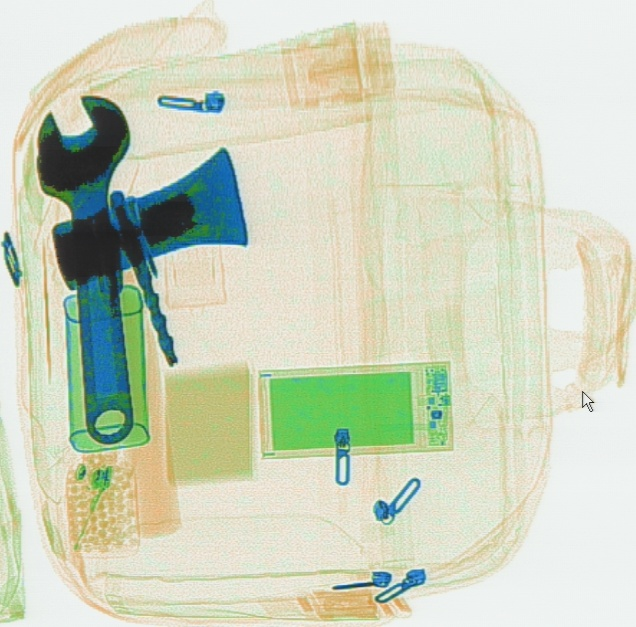zippooil: (61, 279, 146, 453)
